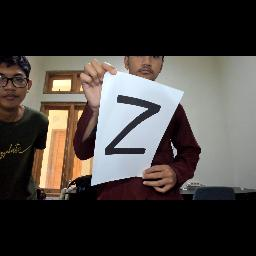z: (104, 92, 164, 160)
